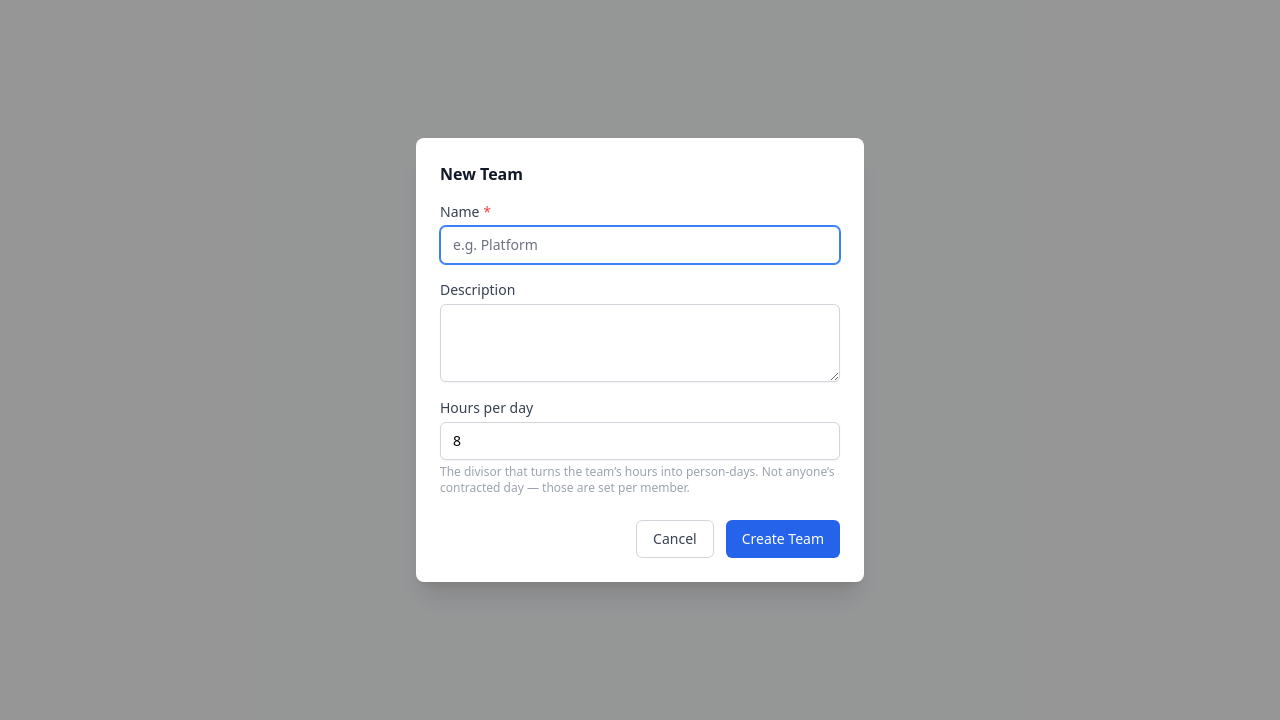
Test: CreateTeamModal › reports a taken name on the name field
Type "Platform" into the field labelled "Name *" at (640, 245), box top-left (440, 226), bottom-right (840, 264)
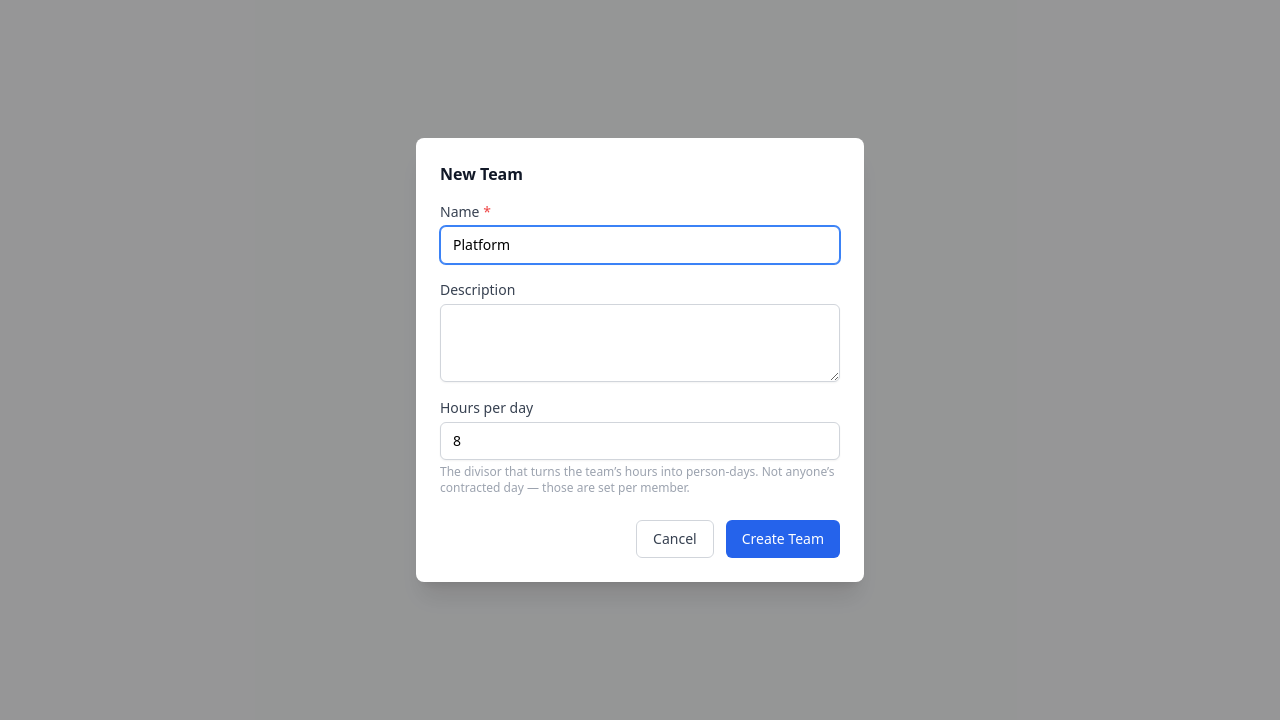
Click the button "Create Team" at (783, 539), box top-left (726, 520), bottom-right (840, 558)
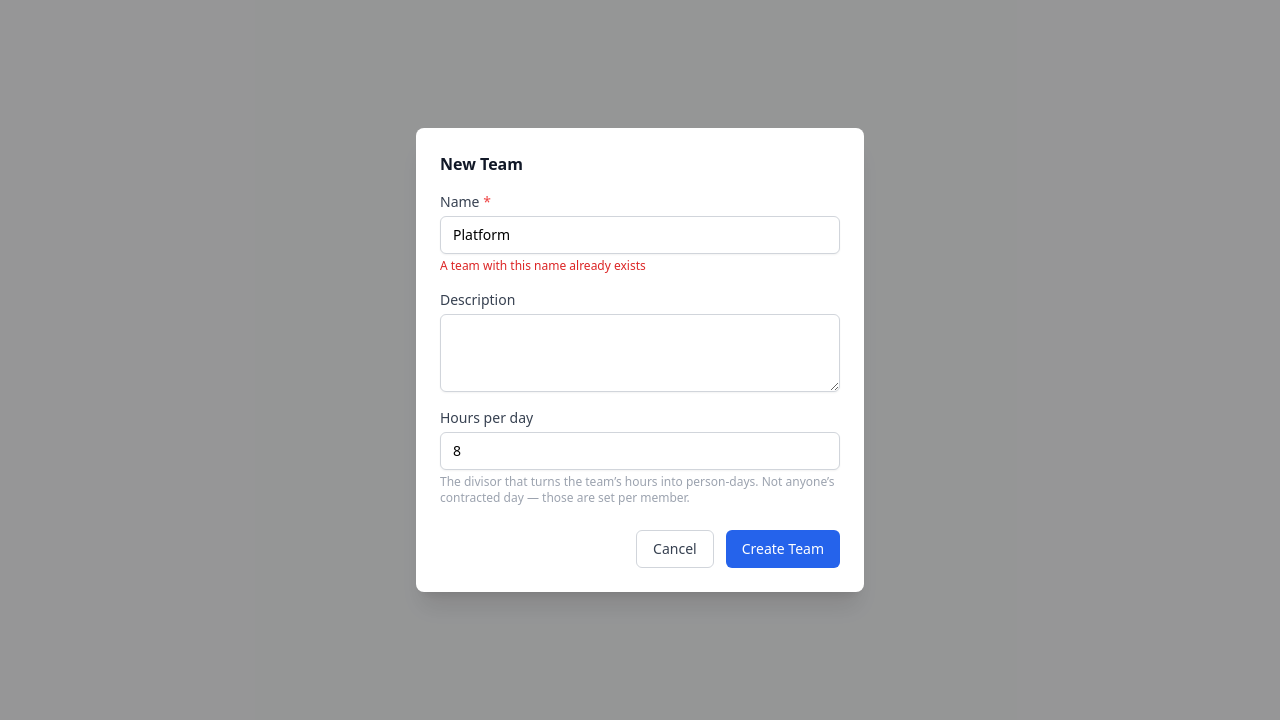
Result: the text "A team with this name already exists" is shown at top-left (440, 257), bottom-right (646, 274)
